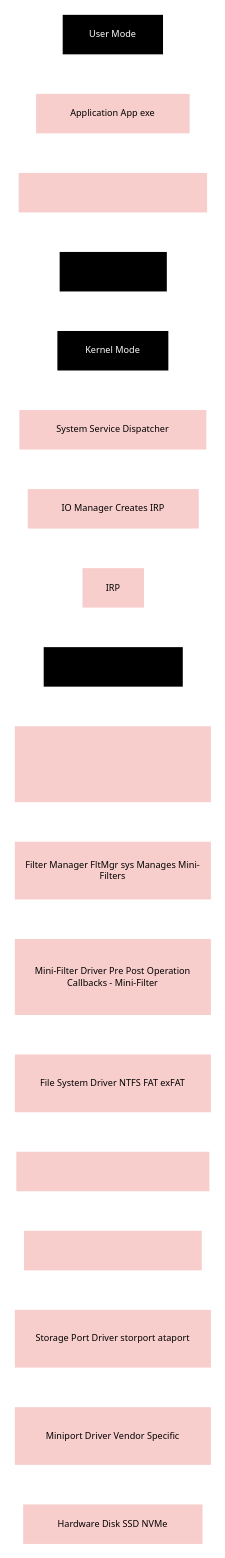
Image size: 225x1558. Some labels were removed from this diagram. The shapes that lost their labels are listed below. From the top down, each one's box as (x1, y1, x2, y2) in pixels, then its label:
(17, 171, 208, 214): Win32 API CreateFile Read
(58, 250, 168, 293): System Call
(42, 645, 184, 688): File System Stack
(13, 724, 212, 803): Legacy Filter Driver IRP Dispatch Routines - Filter Driver
(14, 1150, 211, 1192): Volume Manager volmgr sys
(22, 1229, 203, 1271): Disk Class Driver disk sys
